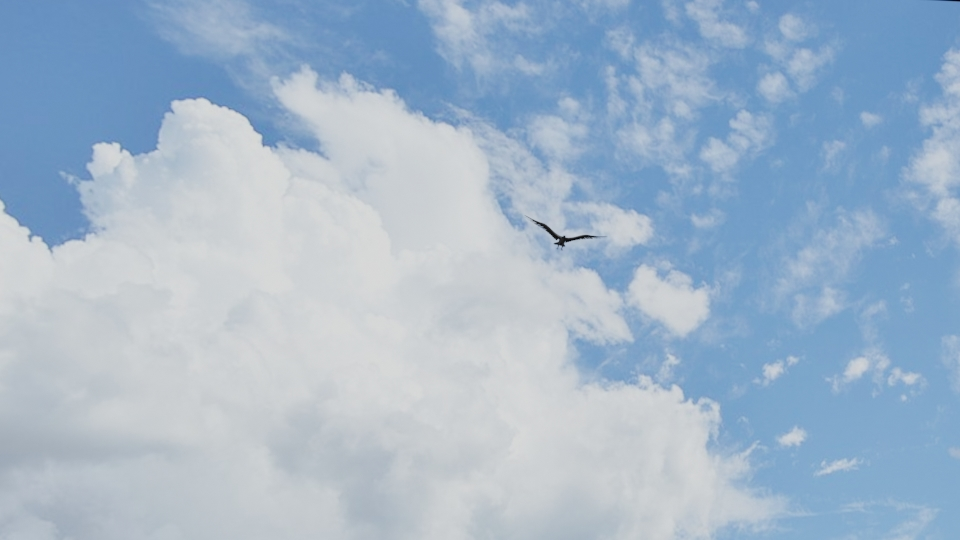bird: (523, 216, 609, 249)
